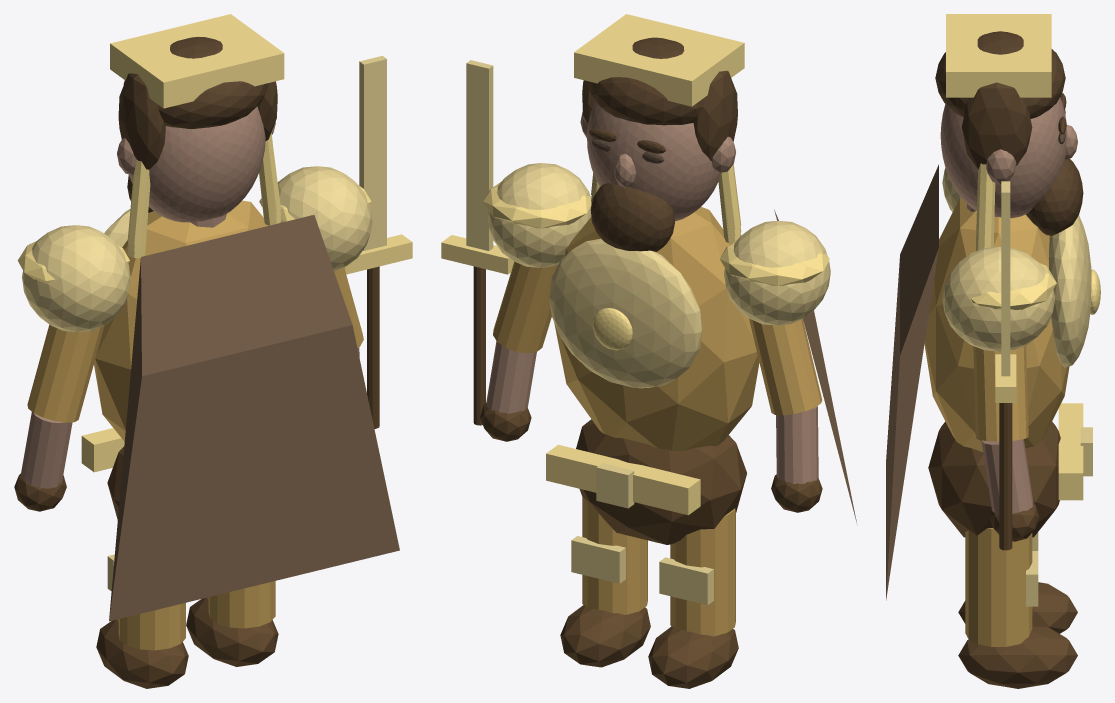
File: heimdall.glb
3 views of the same model, side by side, from view 1: azimuth 30°, elevation 25°; view 2: azimuth 150°, elevation 25°; view 3: azimuth 270°, elevation 25° (orthographic). The views are drawn at different scales.
Parts seen in each view (by area): view 1: heimdall_42_Draped cape, heimdall_23_Face, heimdall_41_Guardian crown, heimdall_12_Shoulder pauldron, heimdall_0_Armored torso, heimdall_17_Shoulder pauldron, heimdall_13_Upper arm, heimdall_44_Sword blade, heimdall_31_Hair, heimdall_10_Boot, heimdall_7_Boot, heimdall_32_Side lock (+14 smaller); view 2: heimdall_0_Armored torso, heimdall_2_Chest plate, heimdall_1_Waist and belt, heimdall_41_Guardian crown, heimdall_23_Face, heimdall_12_Shoulder pauldron, heimdall_17_Shoulder pauldron, heimdall_6_Greave, heimdall_44_Sword blade, heimdall_13_Upper arm, heimdall_4_Ornate belt, heimdall_34_Beard (+20 smaller); view 3: heimdall_0_Armored torso, heimdall_42_Draped cape, heimdall_41_Guardian crown, heimdall_17_Shoulder pauldron, heimdall_1_Waist and belt, heimdall_9_Greave, heimdall_23_Face, heimdall_2_Chest plate, heimdall_10_Boot, heimdall_33_Side lock, heimdall_18_Upper arm, heimdall_31_Hair (+15 smaller).
Boxes of the visible parts, left/top/right/bottom form: heimdall_42_Draped cape: left=109, top=215, right=399, bottom=621; heimdall_23_Face: left=129, top=106, right=265, bottom=222; heimdall_41_Guardian crown: left=110, top=14, right=284, bottom=108; heimdall_12_Shoulder pauldron: left=22, top=225, right=130, bottom=331; heimdall_0_Armored torso: left=94, top=200, right=268, bottom=441; heimdall_17_Shoulder pauldron: left=278, top=166, right=372, bottom=271; heimdall_13_Upper arm: left=27, top=324, right=104, bottom=422; heimdall_44_Sword blade: left=359, top=56, right=386, bottom=250; heimdall_31_Hair: left=123, top=36, right=268, bottom=129; heimdall_10_Boot: left=186, top=597, right=278, bottom=666; heimdall_7_Boot: left=96, top=619, right=188, bottom=688; heimdall_32_Side lock: left=118, top=73, right=165, bottom=169; heimdall_0_Armored torso: left=554, top=207, right=759, bottom=450; heimdall_2_Chest plate: left=549, top=238, right=702, bottom=388; heimdall_1_Waist and belt: left=576, top=419, right=746, bottom=544; heimdall_41_Guardian crown: left=574, top=14, right=744, bottom=106; heimdall_23_Face: left=587, top=102, right=720, bottom=221; heimdall_12_Shoulder pauldron: left=724, top=220, right=830, bottom=325; heimdall_17_Shoulder pauldron: left=487, top=163, right=591, bottom=267; heimdall_6_Greave: left=670, top=508, right=735, bottom=636; heimdall_44_Sword blade: left=466, top=60, right=493, bottom=250; heimdall_13_Upper arm: left=749, top=318, right=822, bottom=415; heimdall_4_Ornate belt: left=546, top=444, right=700, bottom=515; heimdall_34_Beard: left=590, top=183, right=674, bottom=251; heimdall_0_Armored torso: left=924, top=197, right=1069, bottom=451; heimdall_42_Draped cape: left=886, top=164, right=938, bottom=600; heimdall_41_Guardian crown: left=946, top=14, right=1051, bottom=97; heimdall_17_Shoulder pauldron: left=942, top=246, right=1054, bottom=351; heimdall_1_Waist and belt: left=928, top=421, right=1060, bottom=537; heimdall_9_Greave: left=965, top=528, right=1032, bottom=646; heimdall_23_Face: left=940, top=97, right=1066, bottom=218; heimdall_2_Chest plate: left=1048, top=215, right=1091, bottom=367; heimdall_10_Boot: left=958, top=624, right=1077, bottom=688; heimdall_33_Side lock: left=961, top=82, right=1032, bottom=169; heimdall_18_Upper arm: left=973, top=345, right=1028, bottom=441; heimdall_31_Hair: left=935, top=31, right=1065, bottom=118.
Bounding box in the file's own units: 1.25 × 1.95 × 0.61.
